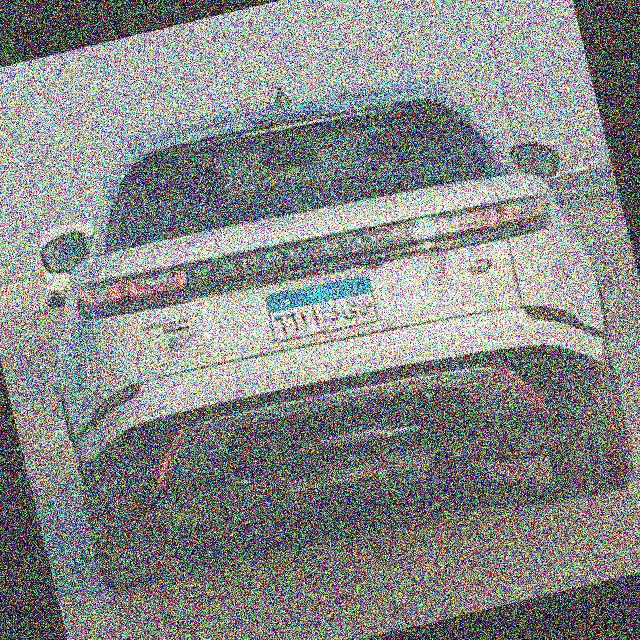License Plate: (262, 269, 382, 349)
